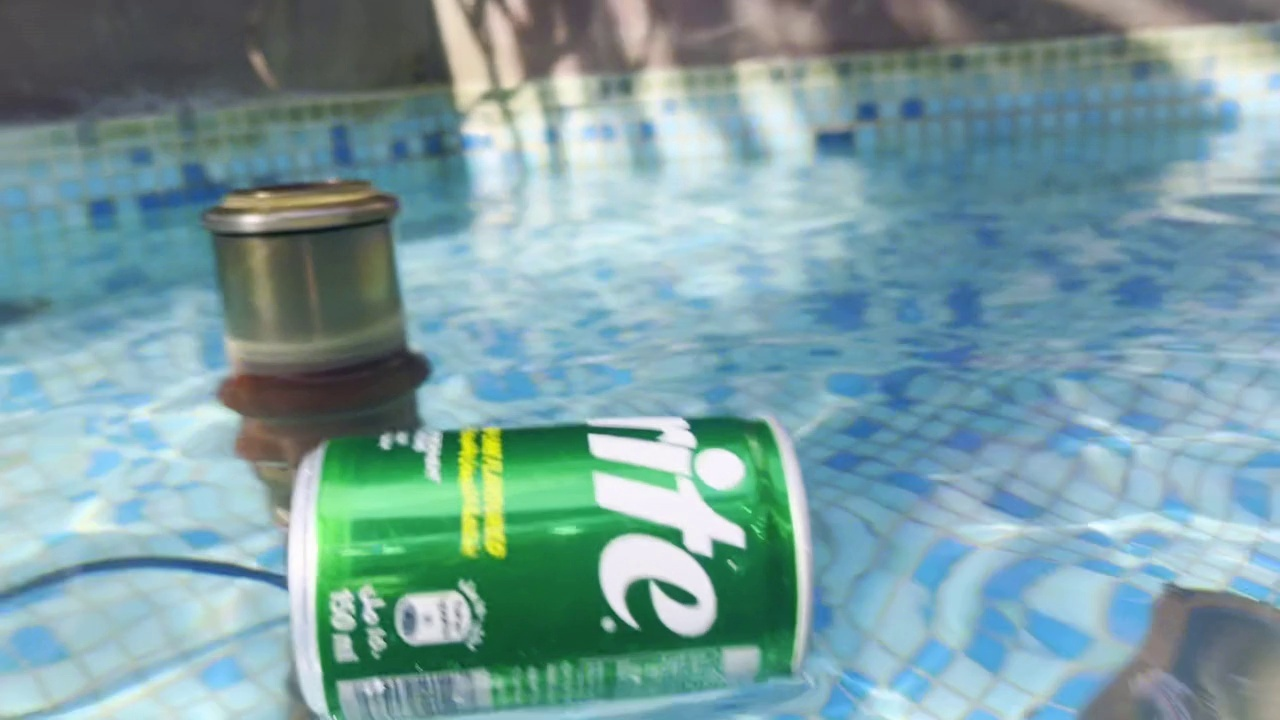debris: (276, 408, 819, 720)
